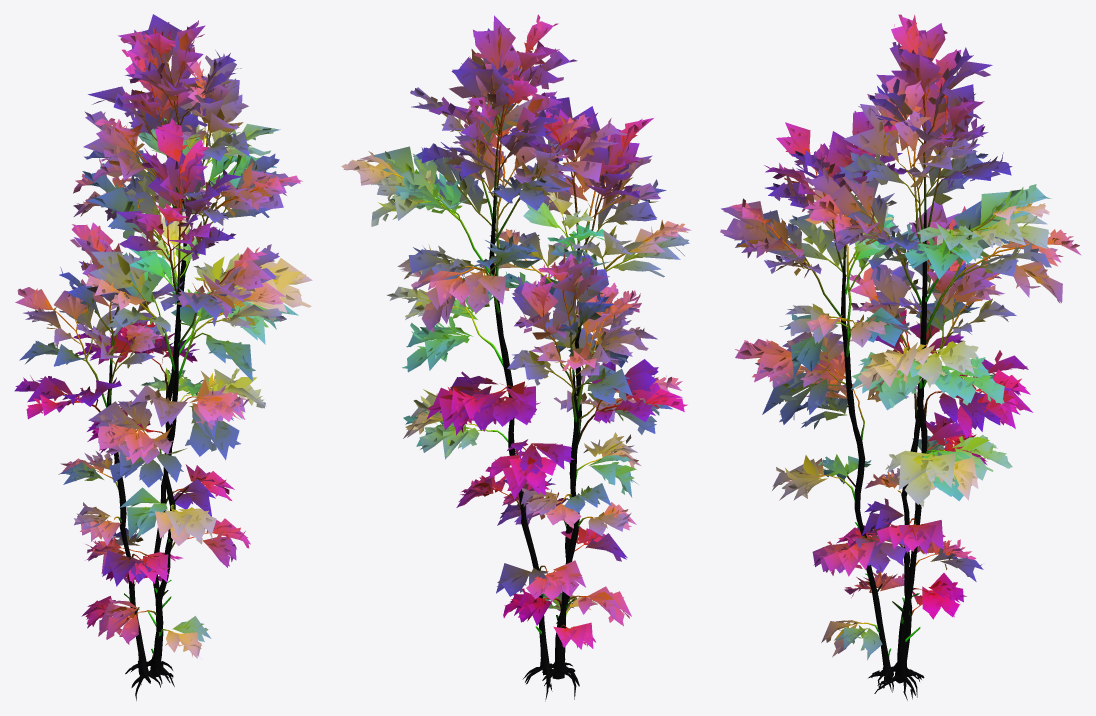
The model's file is SM_EuropeanBeech_L_01.fbx.
3 views of the same model, side by side, from view 1: azimuth 30°, elevation 25°; view 2: azimuth 150°, elevation 25°; view 3: azimuth 270°, elevation 25° (orthographic). The views are drawn at different scales.
Parts seen in each view (by area): view 1: SM_EuropeanBeech_L_01_LOD0; view 2: SM_EuropeanBeech_L_01_LOD0; view 3: SM_EuropeanBeech_L_01_LOD0.
Part boxes in pixels (left/top/right/bottom): SM_EuropeanBeech_L_01_LOD0: left=14, top=14, right=312, bottom=700; SM_EuropeanBeech_L_01_LOD0: left=341, top=14, right=691, bottom=701; SM_EuropeanBeech_L_01_LOD0: left=720, top=14, right=1081, bottom=700.
Bounding box in the file's own units: 466 × 494 × 1039.
